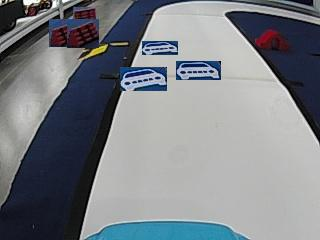bridge: (256, 28, 289, 49)
